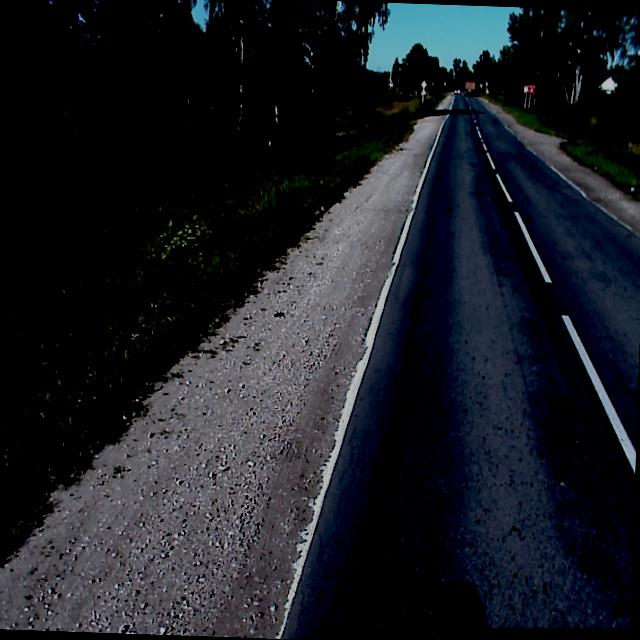road: (277, 96, 640, 640)
